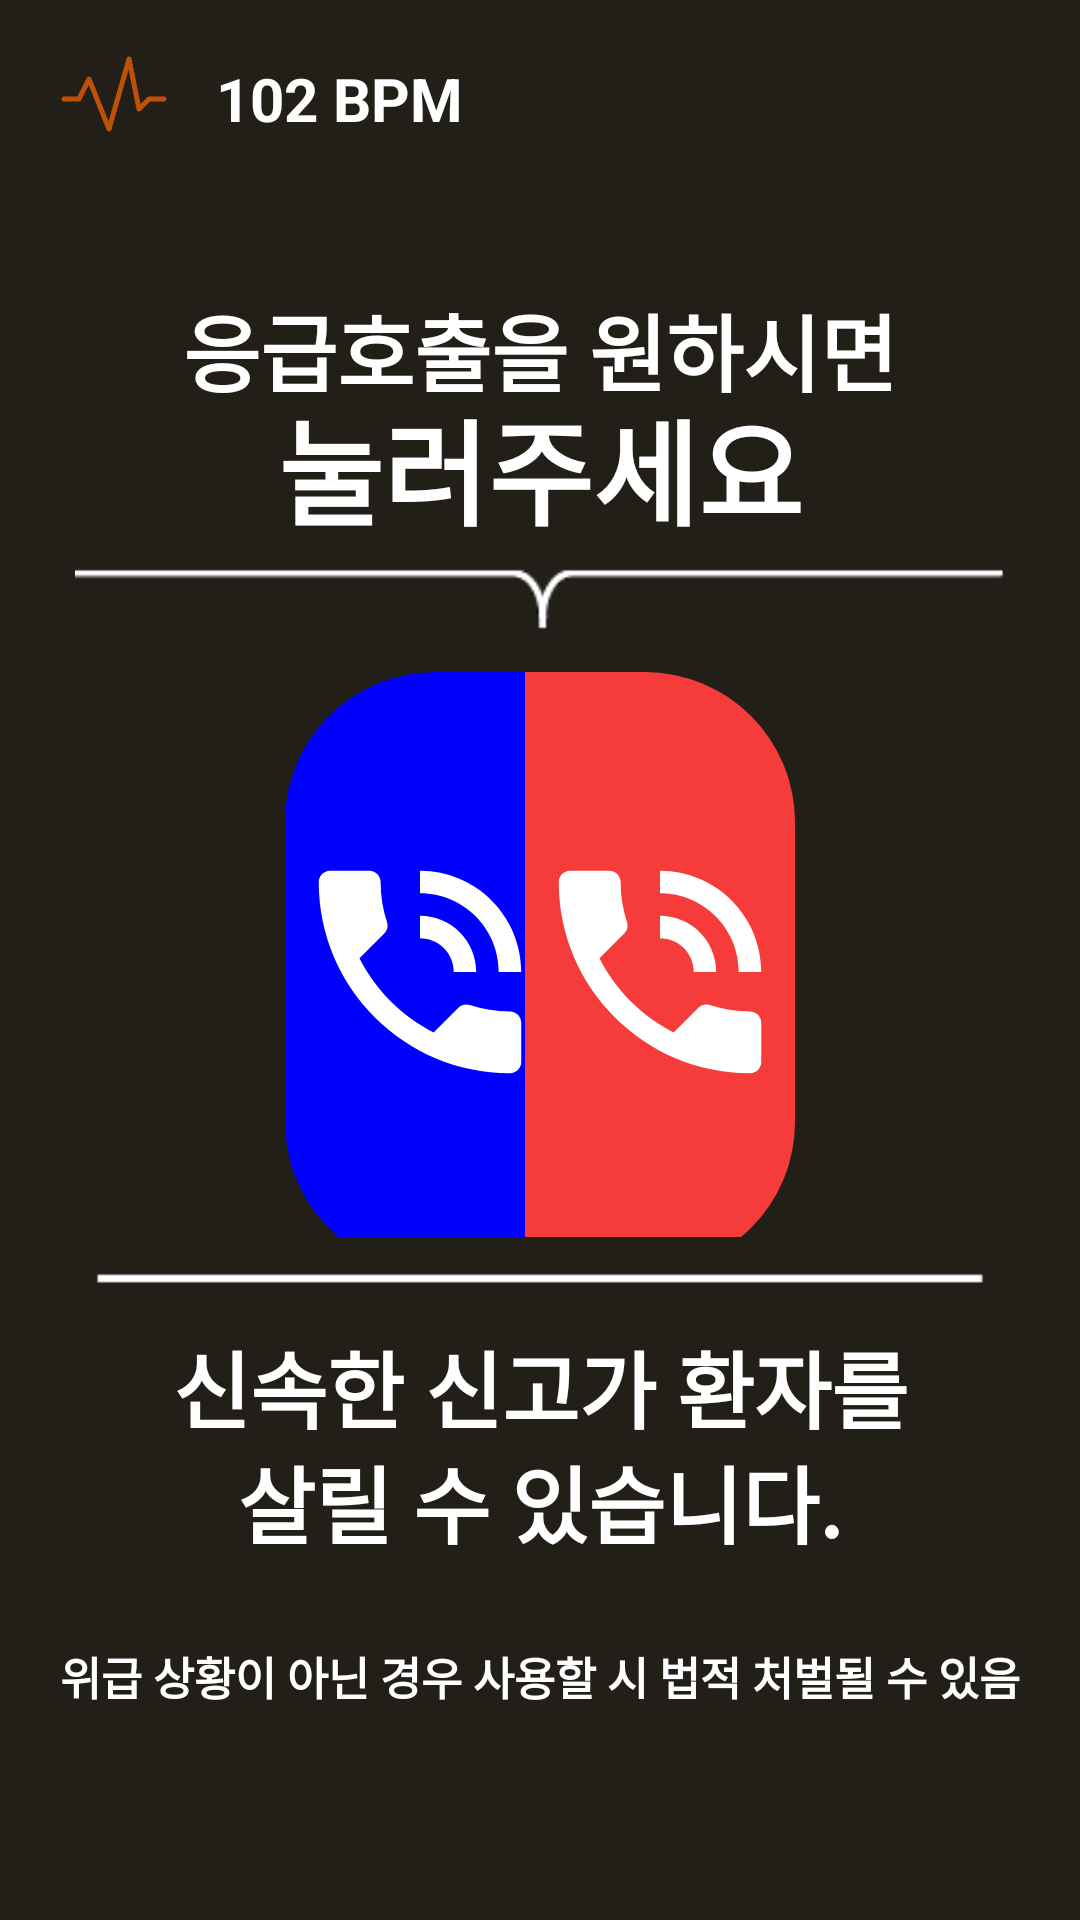

Where to tap for icons on this 1080 × 1920 app screen, as point (x, y):
pulse: point (114, 94)
